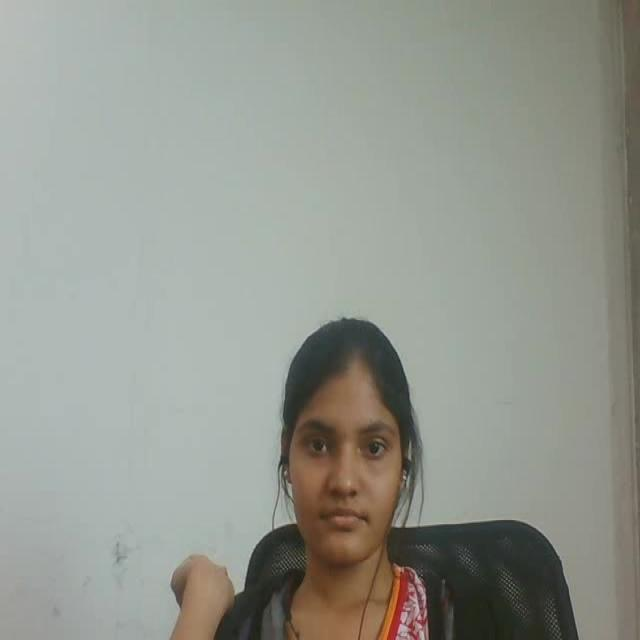Engaged: (253, 302, 444, 579)
